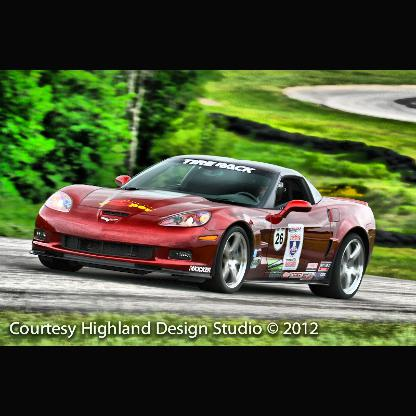Chevrolet Corvette ZR1 2012: (29, 151, 380, 303)
